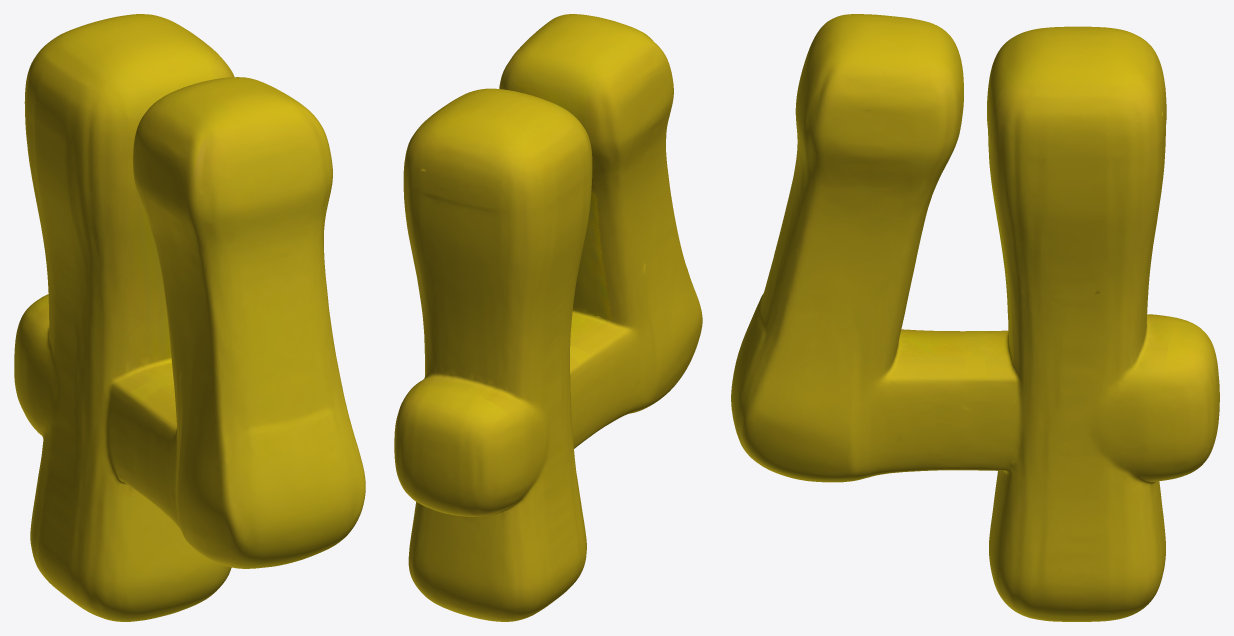
File: Number4.fbx
3 views of the same model, side by side, from view 1: azimuth 30°, elevation 25°; view 2: azimuth 150°, elevation 25°; view 3: azimuth 270°, elevation 25° (orthographic). The views are drawn at different scales.
Visible parts, largest first — view 1: tripo_node_256f330c-8ffe-4435-9d7d-532ede4aca90; view 2: tripo_node_256f330c-8ffe-4435-9d7d-532ede4aca90; view 3: tripo_node_256f330c-8ffe-4435-9d7d-532ede4aca90.
Boxes of the visible parts, left/top/right/bottom form: tripo_node_256f330c-8ffe-4435-9d7d-532ede4aca90: left=14, top=14, right=365, bottom=621; tripo_node_256f330c-8ffe-4435-9d7d-532ede4aca90: left=394, top=14, right=702, bottom=621; tripo_node_256f330c-8ffe-4435-9d7d-532ede4aca90: left=731, top=14, right=1219, bottom=621.
Bounding box in the file's own units: 27.88 × 94.95 × 72.27.
1 material, 1 textured.
